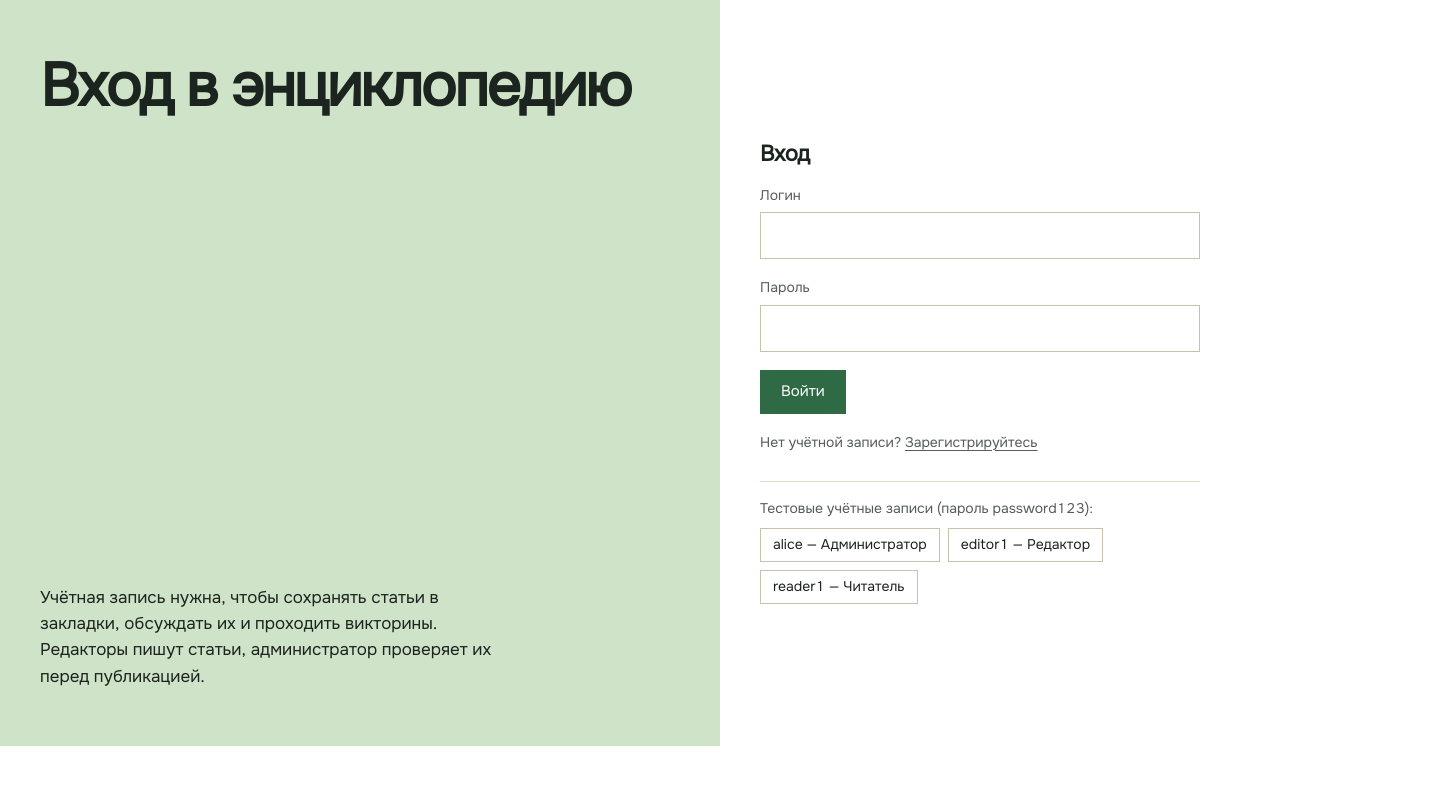
вход в систему › показывает ошибку сервера при неверном пароле
Type "alice" into the field labelled "Логин" at (980, 236), box [760,212,1200,259]
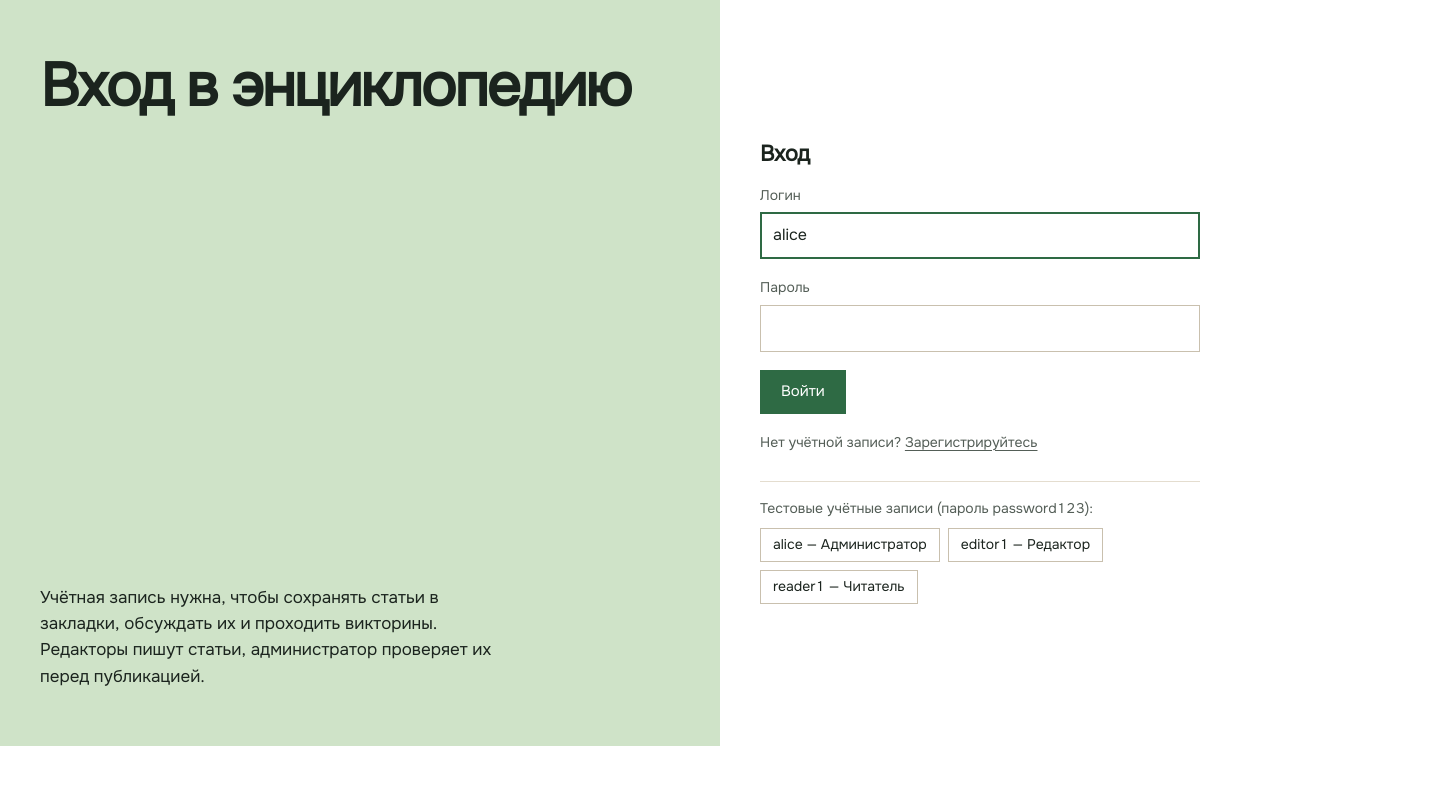
Type "bad" into the password field labelled "Пароль" at (980, 328), box [760,305,1200,352]
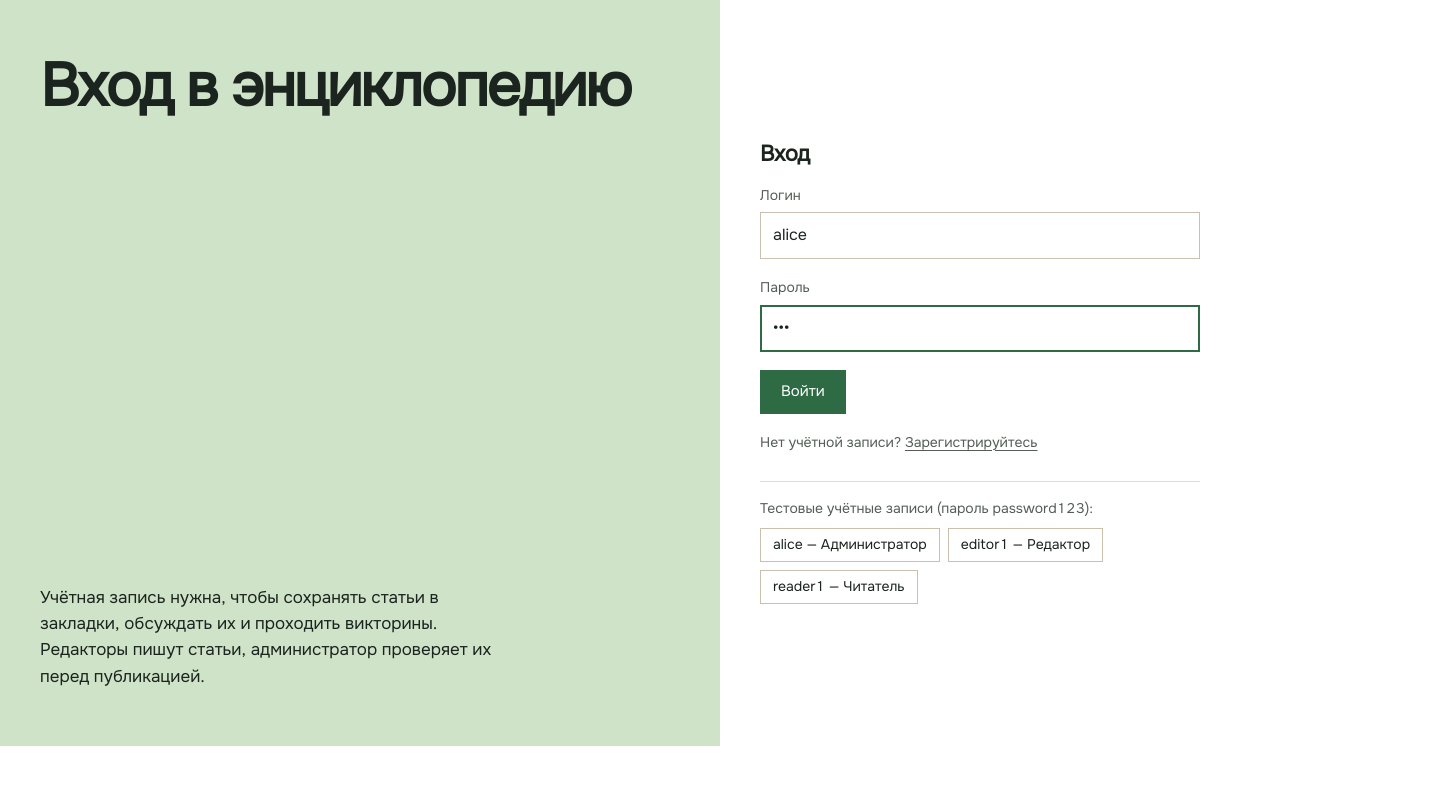
Click the button "Войти" at (803, 392), box [760,370,846,414]
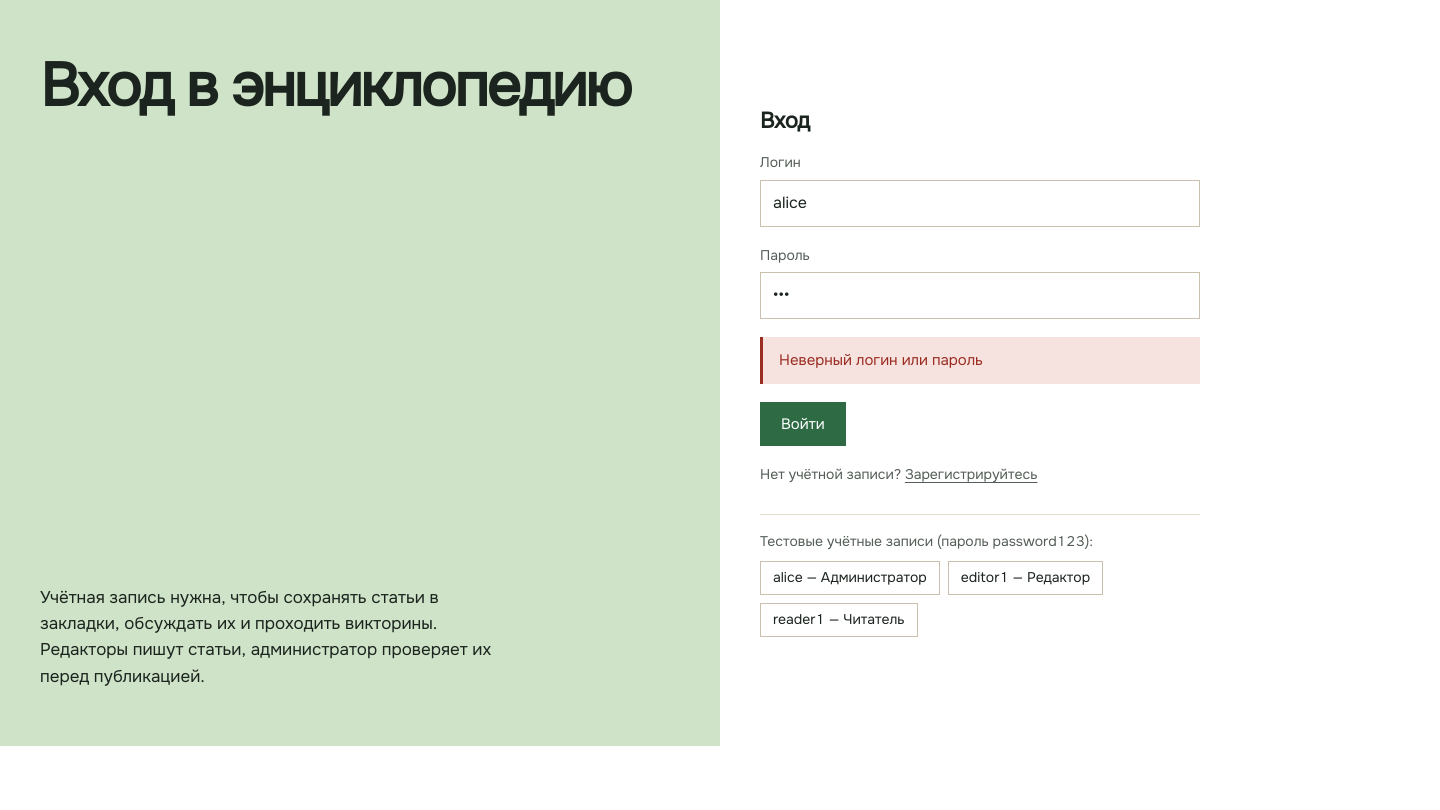
Expected: the text "Неверный логин или пароль" is shown, [760,337,1200,384]
